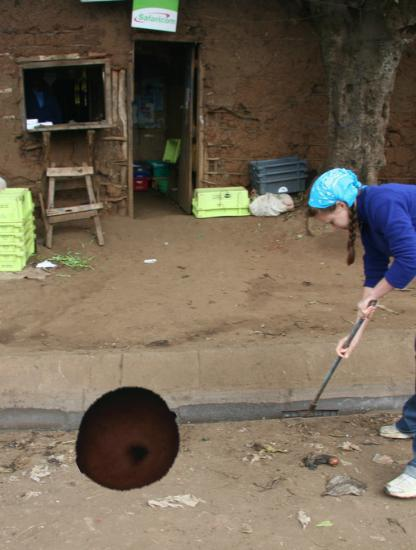Pear: (71, 384, 183, 496)
